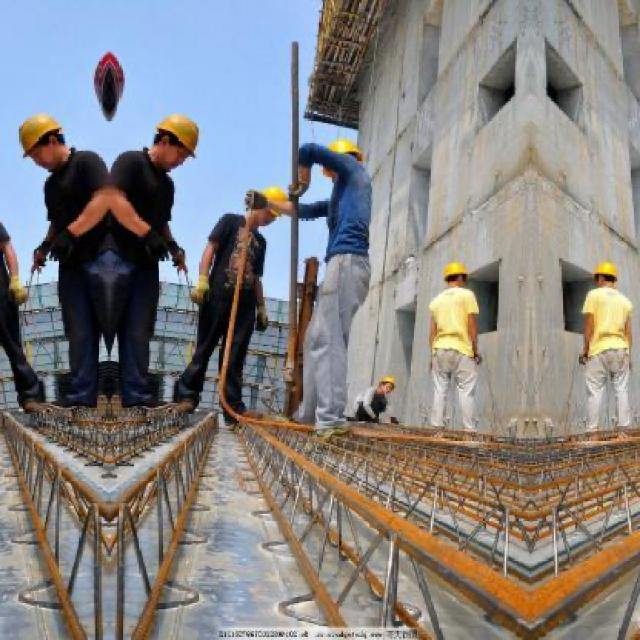helmet: (148, 110, 206, 164), (14, 110, 72, 164), (323, 137, 369, 180), (249, 184, 291, 224), (590, 262, 622, 292), (443, 262, 474, 292), (378, 374, 402, 392)
